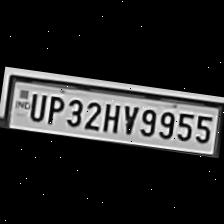2: (82, 98, 104, 132)
3: (62, 94, 86, 127)
5: (191, 111, 214, 145), (173, 108, 195, 142)
9: (136, 104, 158, 138), (155, 106, 177, 139)
H: (100, 99, 123, 134)
P: (43, 92, 65, 126)
U: (25, 89, 47, 122)
V: (117, 100, 140, 137)
